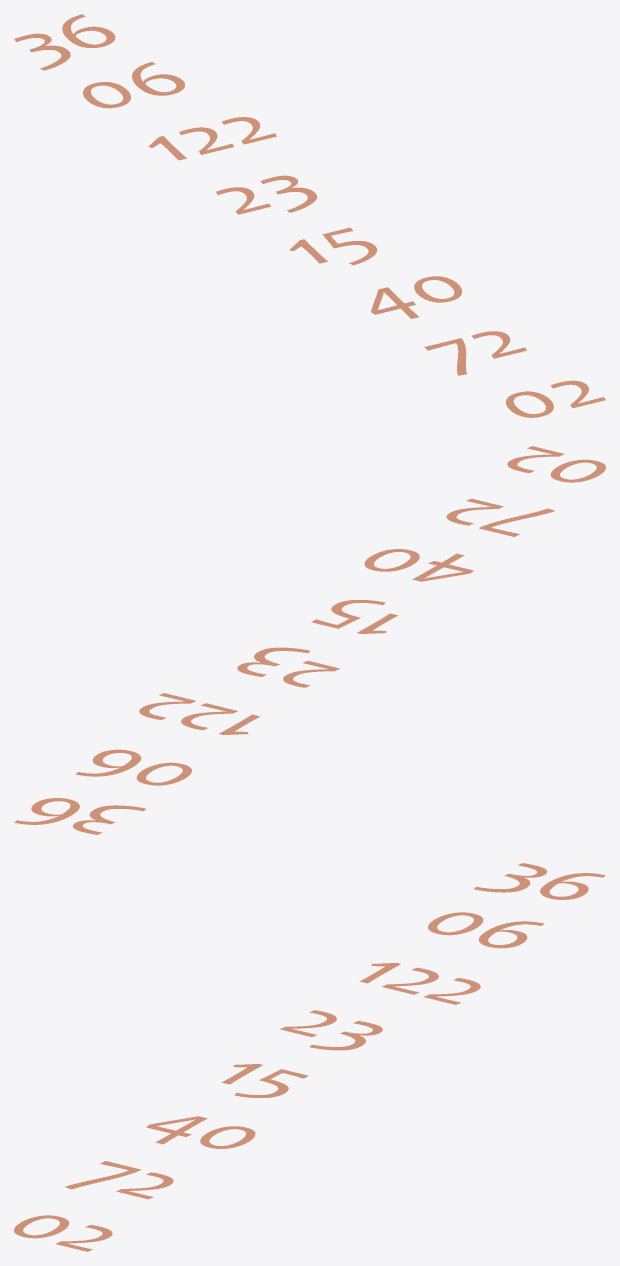
File: Chiffres_bal.fbx
3 views of the same model, one above another, from view 1: azimuth 30°, elevation 25°; view 2: azimuth 150°, elevation 25°; view 3: azimuth 330°, elevation 25° (orthographic). The views are drawn at different scales.
Visible parts, largest first — view 1: Text.004, Text.008, Text.012, Text.009, Text.010, Text.014, Text.013, Text.011; view 2: Text.004, Text.008, Text.012, Text.009, Text.010, Text.014, Text.013, Text.011; view 3: Text.004, Text.008, Text.012, Text.009, Text.010, Text.014, Text.013, Text.011.
Boxes of the visible parts, bbox=[...] form: Text.004: bbox=[14, 14, 115, 70]; Text.008: bbox=[83, 62, 184, 108]; Text.012: bbox=[371, 276, 461, 318]; Text.009: bbox=[148, 117, 276, 160]; Text.010: bbox=[216, 175, 316, 214]; Text.014: bbox=[506, 380, 605, 417]; Text.013: bbox=[424, 331, 526, 375]; Text.011: bbox=[289, 227, 377, 265]; Text.004: bbox=[14, 798, 145, 834]; Text.008: bbox=[75, 749, 191, 785]; Text.012: bbox=[364, 549, 473, 581]; Text.009: bbox=[139, 693, 260, 734]; Text.010: bbox=[237, 647, 339, 687]; Text.014: bbox=[507, 446, 605, 482]; Text.013: bbox=[446, 498, 554, 536]; Text.011: bbox=[311, 600, 398, 633]; Text.004: bbox=[474, 863, 605, 899]; Text.008: bbox=[428, 912, 544, 948]; Text.012: bbox=[146, 1116, 255, 1148]; Text.009: bbox=[359, 963, 480, 1004]; Text.010: bbox=[280, 1010, 382, 1050]; Text.014: bbox=[14, 1215, 112, 1251]; Text.013: bbox=[65, 1161, 173, 1199]; Text.011: bbox=[221, 1064, 308, 1097].
Bounding box in the file's own units: 91.23 × 1.15e-05 × 748.
